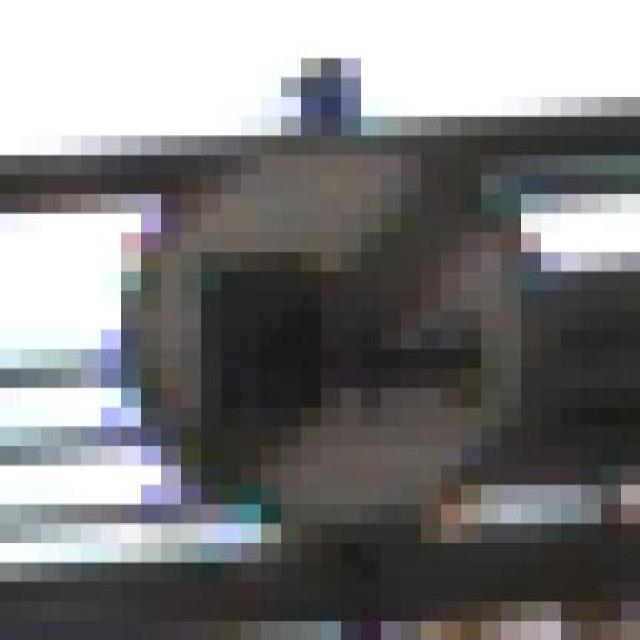Overtaking by trucks is prohibited: (80, 78, 560, 582)
